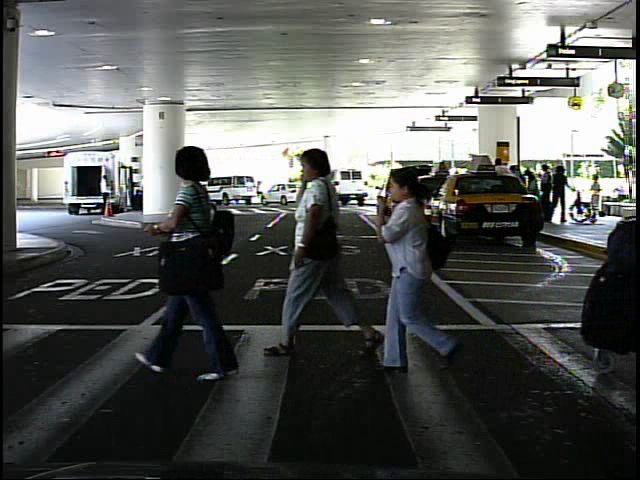person: (141, 139, 259, 387), (367, 160, 476, 381), (280, 139, 376, 360), (588, 173, 607, 218), (97, 172, 115, 197), (254, 177, 265, 204)
